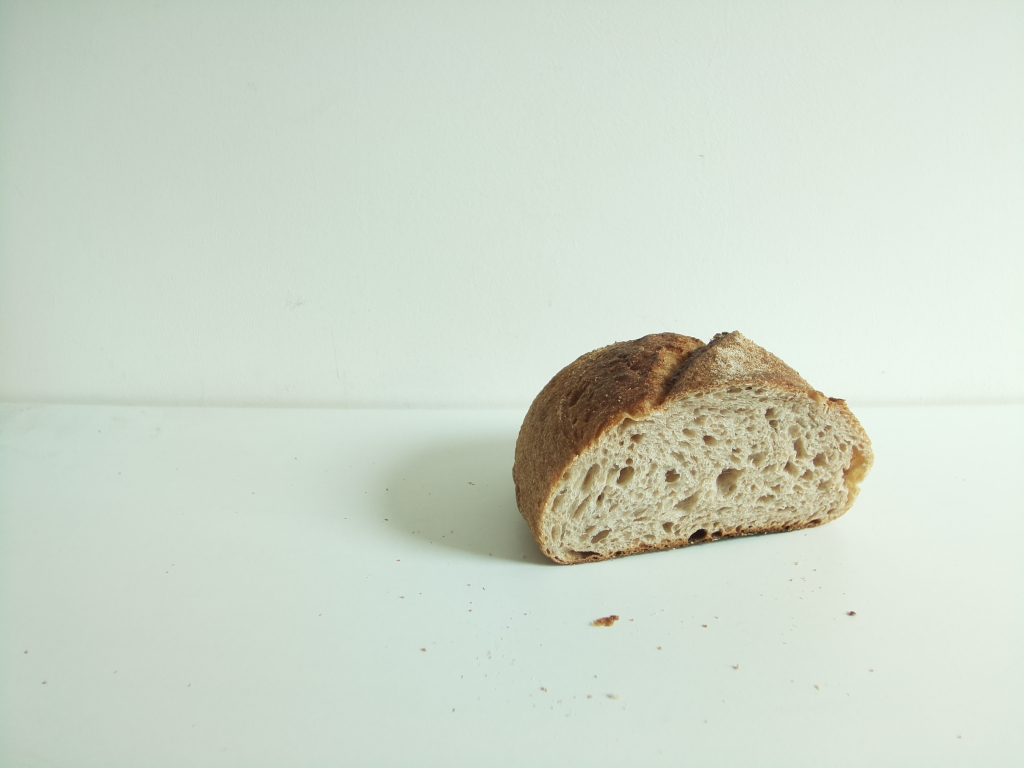bread: (512, 331, 877, 566)
